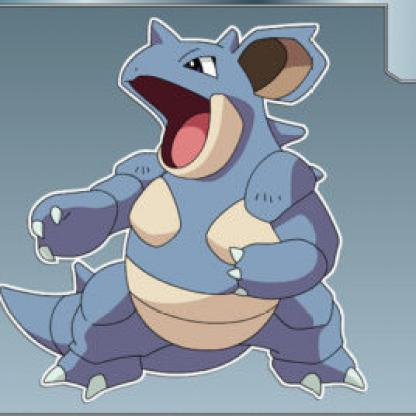Nidoqueen: (39, 12, 375, 398)
